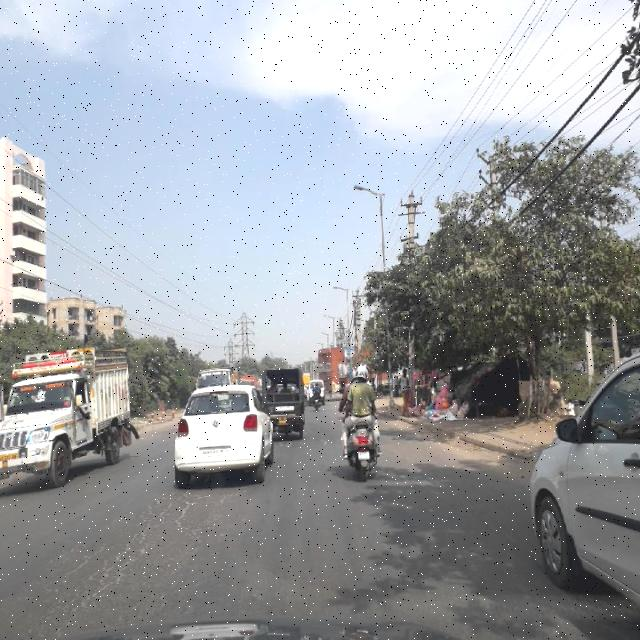D20: (120, 495, 227, 557), (27, 557, 133, 619)
